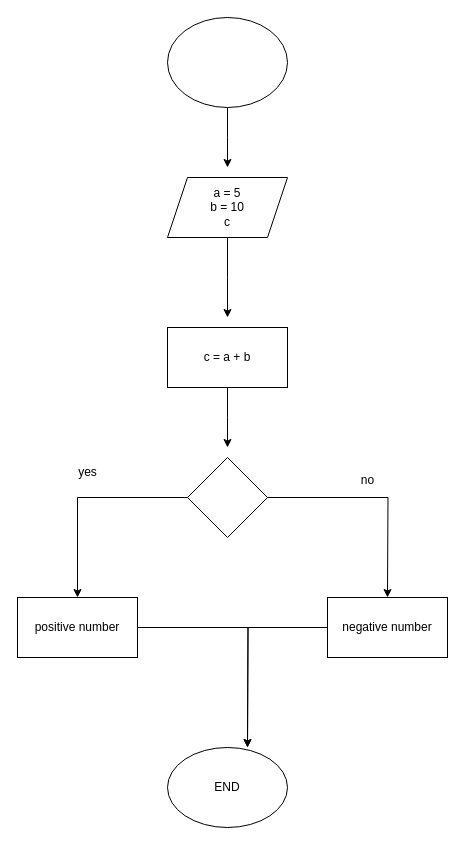
Some shapes in this 465 by 845 pixel diagram are drawn without their labels. The box of each missing label's shape, as (x1, y1, x2, y2) in pixels:
if c = +: (186, 456, 268, 538)
START: (166, 16, 288, 108)
